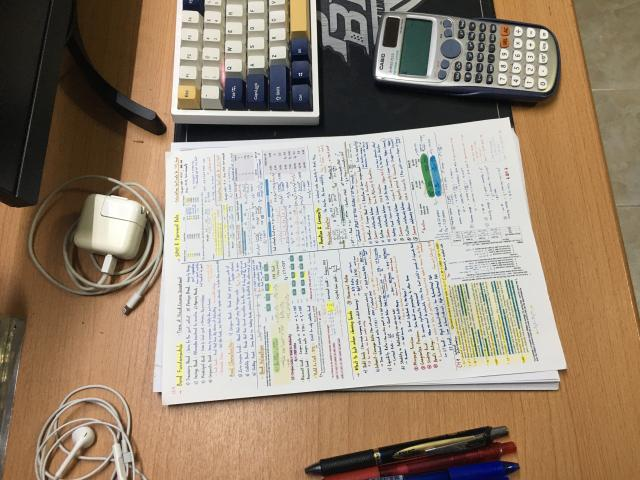Pen: (305, 427, 520, 480)
paper: (161, 120, 565, 405)
wire: (28, 175, 165, 309), (35, 385, 145, 479)
